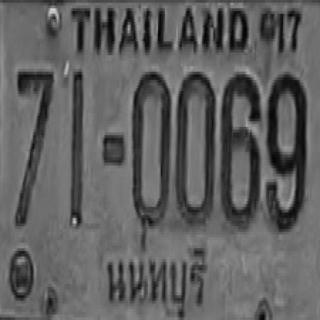N00: (131, 69, 171, 229), (175, 69, 215, 226)
N01: (70, 69, 82, 226)
N06: (220, 72, 260, 229)
N07: (14, 69, 53, 226)
N09: (266, 72, 306, 232)
P37: (97, 242, 212, 320)
